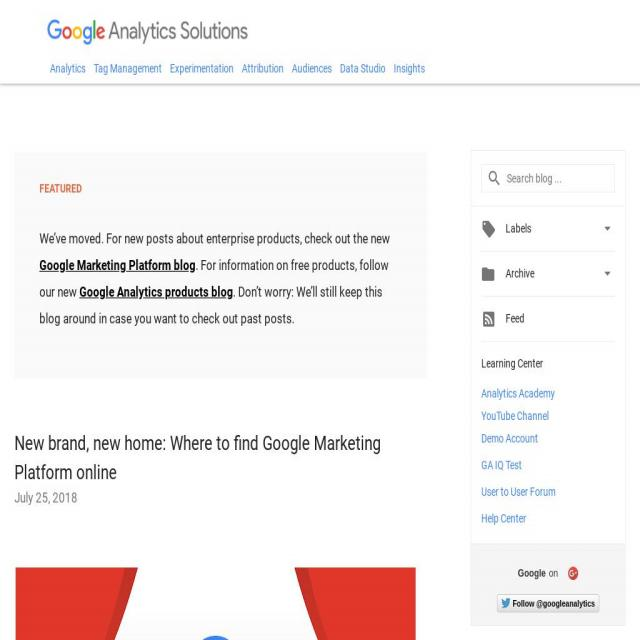follow-options: (480, 550, 611, 630)
navigation-links: (468, 210, 632, 532), (49, 52, 435, 83)
search: (468, 148, 628, 204)
